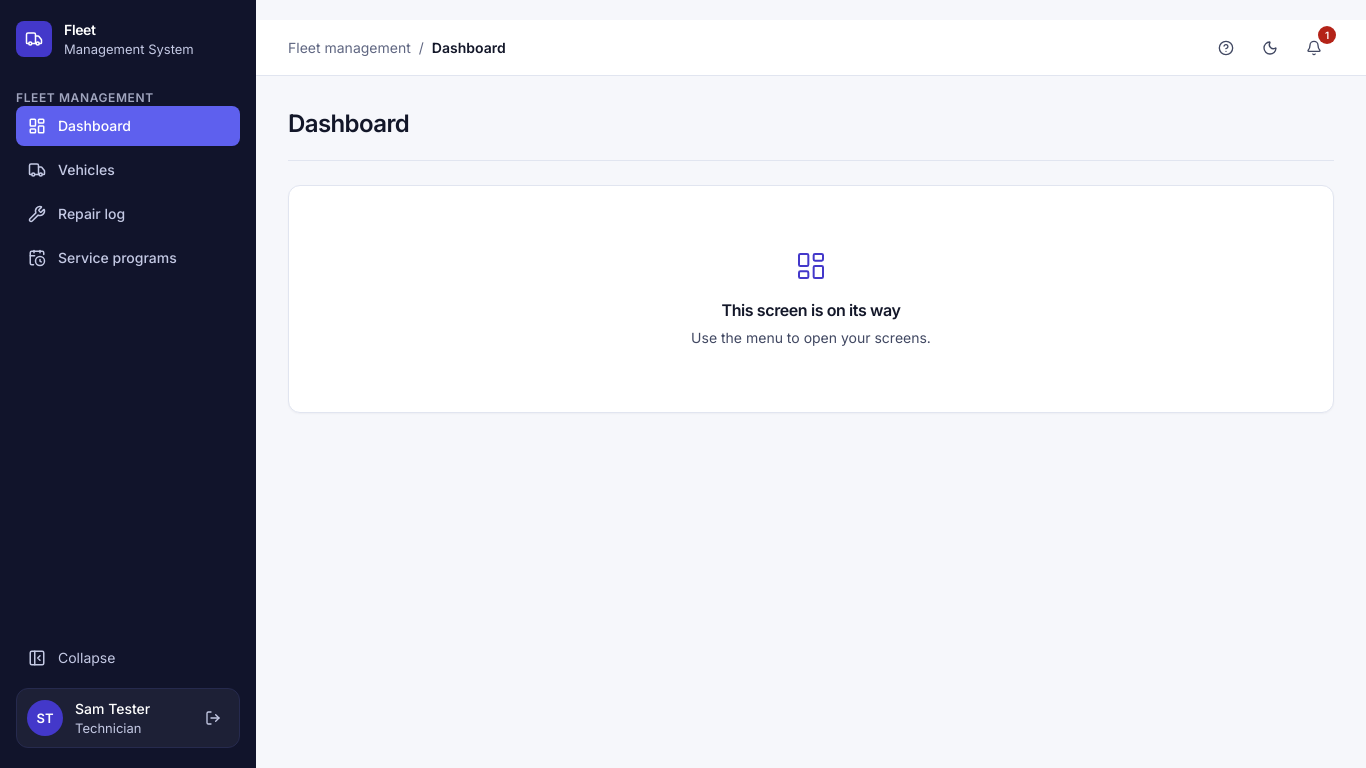
Test: the panel › lists the notifications, newest first as the server sends them: title, message, how long ago, unread marked
Click the button named "Notifications" at {"x": 1314, "y": 48}, box [1294,28,1334,68]
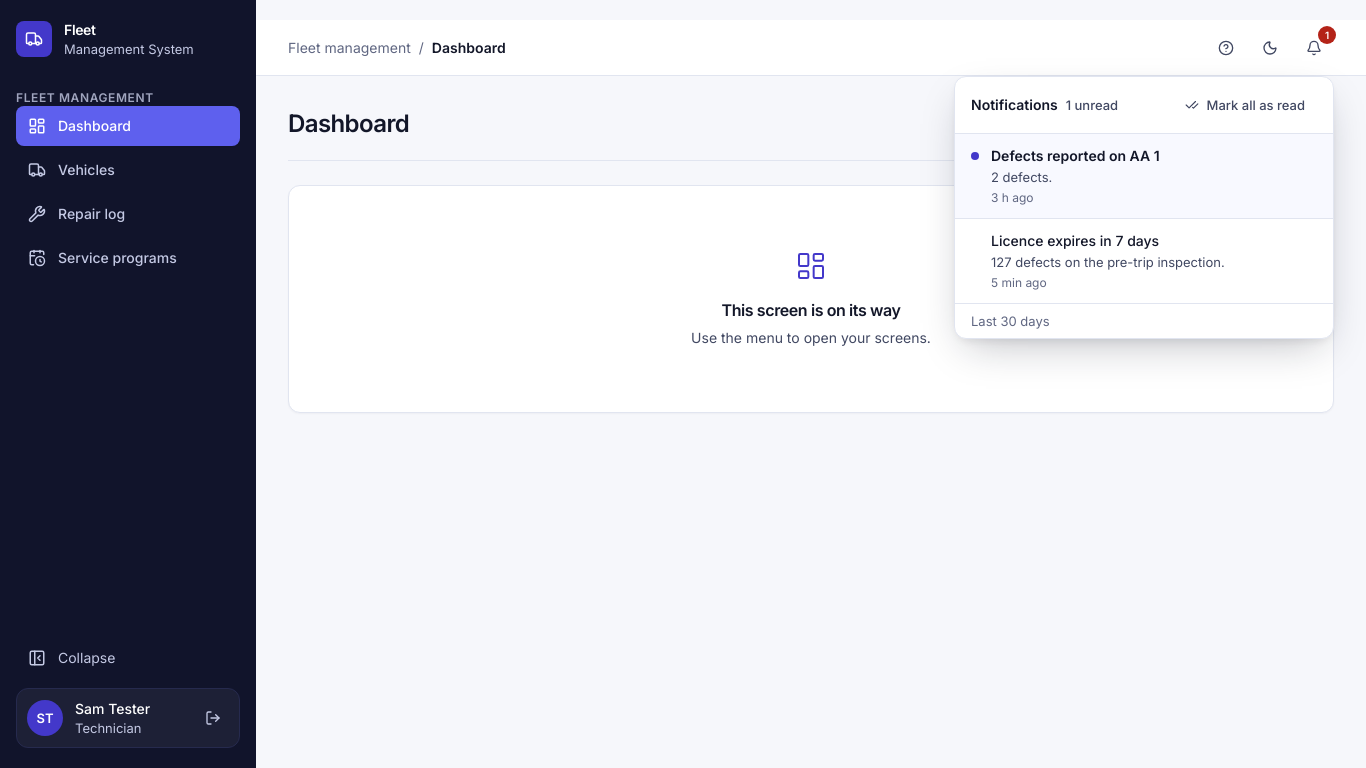
Expected: the list item "Defects reported on AA 1 2 defects. 3 h ago" is shown, [955,134,1333,218]
Expected: the text "Last 30 days" is shown, [955,302,1333,338]
